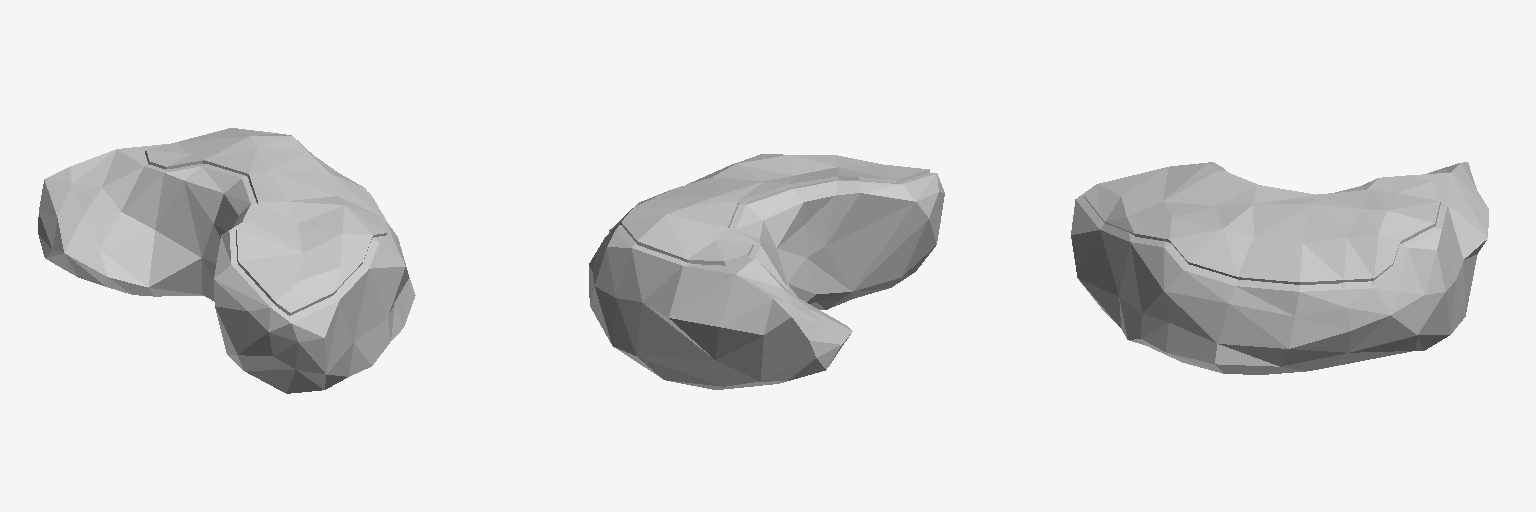
The model's file is winter-rock5.obj.
3 renders of one model, left to right at view 1: azimuth 30°, elevation 25°; view 2: azimuth 150°, elevation 25°; view 3: azimuth 270°, elevation 25°, orthographic.
Parts seen in each view (by area): view 1: Cube.003; view 2: Cube.003; view 3: Cube.003.
Boxes of the visible parts, x1,y1,x2,y2 form: Cube.003: [38, 128, 415, 393]; Cube.003: [589, 154, 944, 389]; Cube.003: [1071, 162, 1488, 374].
Bounding box in the file's own units: 3.27 × 1.55 × 4.27.